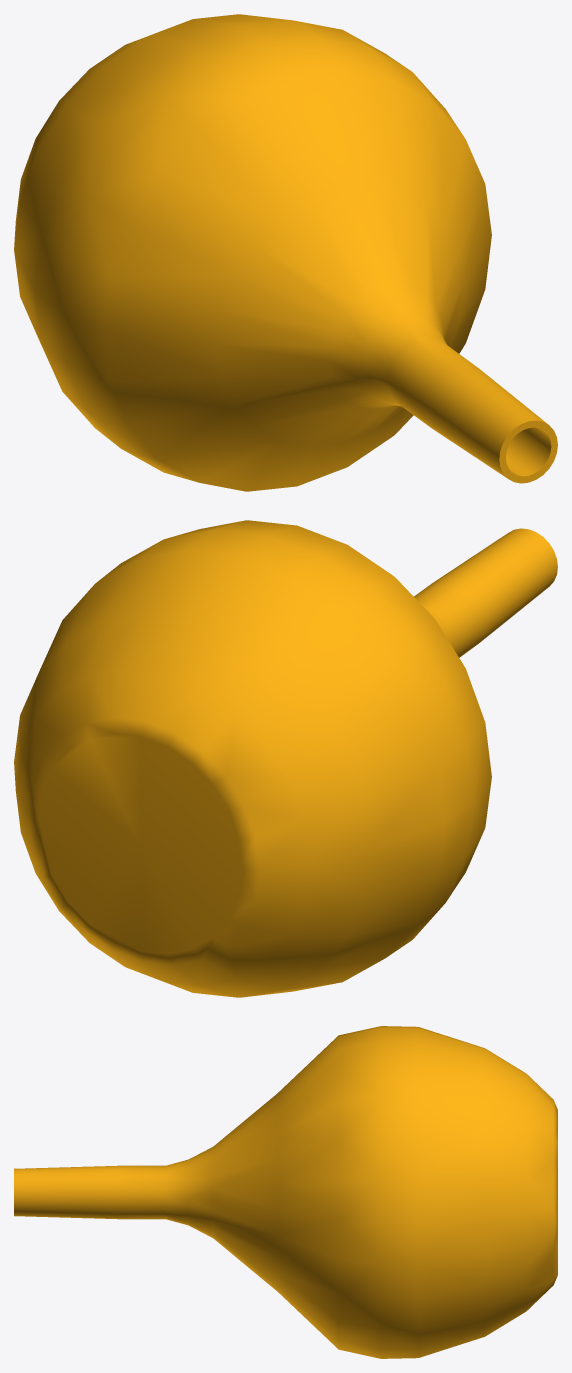
File: MeshVaseTall_0.obj
3 views of the same model, one above another, from view 1: azimuth 30°, elevation 25°; view 2: azimuth 150°, elevation 25°; view 3: azimuth 270°, elevation 25° (orthographic). The views are drawn at different scales.
Visible parts, largest first — view 1: VaseTall; view 2: VaseTall; view 3: VaseTall.
Boxes of the visible parts, x1,y1,x2,y2 form: VaseTall: (14,14,557,491); VaseTall: (14,520,557,997); VaseTall: (14,1026,557,1358).
Size of the model in its own units: 0.1833 by 0.1833 by 0.2983.
